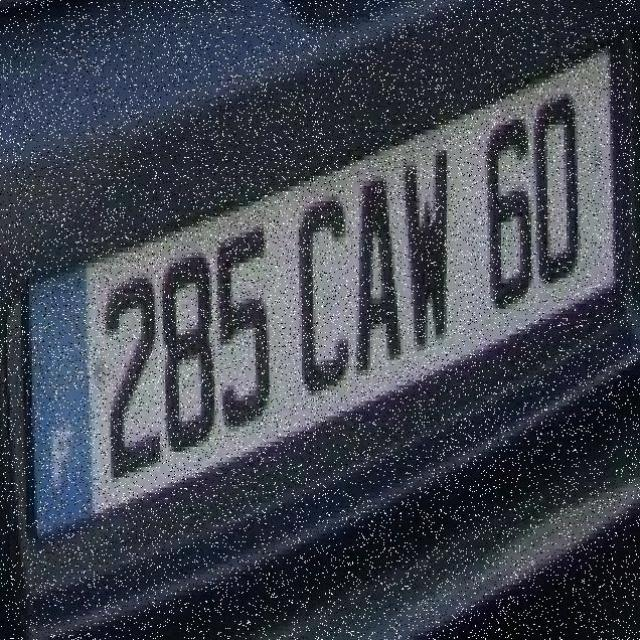LicensePlate: (6, 18, 632, 602)
